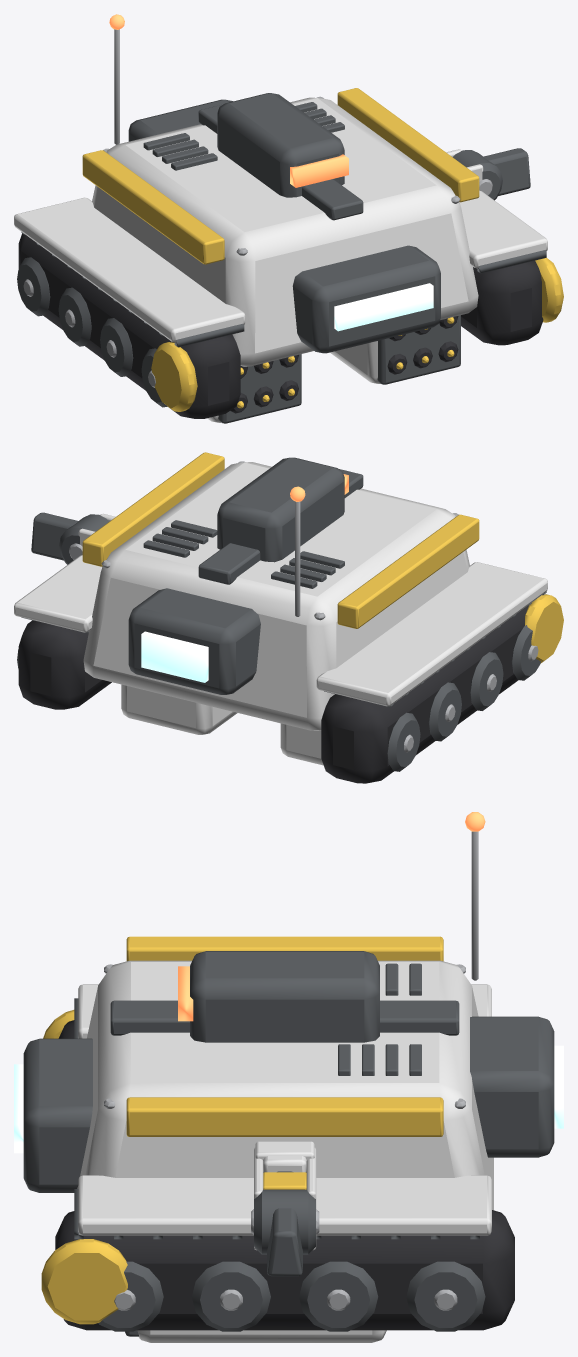
The model's file is missile.glb.
The picture shows the model from 3 angles, top to bottom: view 1: azimuth 30°, elevation 25°; view 2: azimuth 150°, elevation 25°; view 3: azimuth 270°, elevation 25°; orthographic projection. The views are drawn at different scales.
Visible parts, largest first — view 1: Hull, Turret, Barrel, LegLower, LegUpper; view 2: Hull, Turret, Barrel, LegLower, LegUpper; view 3: Hull, Turret, LegUpper, LegLower, Barrel.
Part boxes in pixels (x1,y1,x2,y2): Hull: [14, 14, 563, 418]; Turret: [217, 93, 348, 197]; Barrel: [207, 315, 460, 423]; LegLower: [483, 148, 530, 195]; LegUpper: [446, 149, 502, 200]; Hull: [14, 452, 563, 783]; Turret: [217, 457, 348, 562]; Barrel: [121, 684, 323, 765]; LegLower: [31, 512, 78, 560]; LegUpper: [59, 513, 115, 564]; Hull: [14, 812, 563, 1331]; Turret: [178, 951, 379, 1042]; LegUpper: [251, 1141, 319, 1254]; LegLower: [263, 1156, 306, 1276]; Barrel: [125, 1330, 386, 1342].
Bounding box in the file's own units: 0.821 × 0.558 × 0.694.
